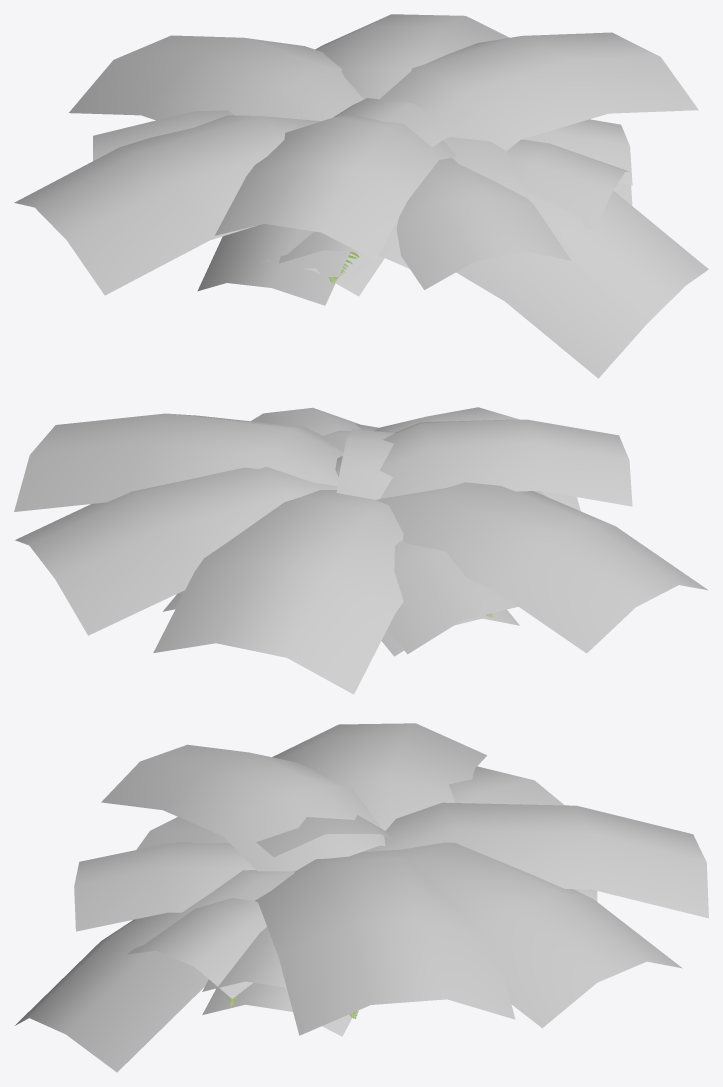
File: Fern.FBX
3 renders of one model, top to bottom at view 1: azimuth 30°, elevation 25°; view 2: azimuth 150°, elevation 25°; view 3: azimuth 270°, elevation 25°, orthographic. The views are drawn at different scales.
Parts seen in each view (by area): view 1: Plane024, Plane016, Plane015, gREENS, Plane023, Plane013, Plane011, Plane014, Plane012, Plane008, Plane006, Plane007 (+1 smaller); view 2: Plane023, Plane024, Plane014, Plane015, gREENS, Plane006, Plane011, Plane012, Plane013, Plane002; view 3: Plane015, Plane023, Plane014, gREENS, Plane016, Plane024, Plane013, Plane012, Plane006, Plane008, Plane011, Plane004 (+1 smaller).
Part boxes in pixels (x1,y1,x2,y2): Plane024: (14, 115, 320, 295); Plane016: (443, 137, 708, 378); Plane015: (380, 32, 698, 150); gREENS: (214, 114, 456, 260); Plane023: (69, 35, 363, 121); Plane013: (396, 157, 571, 289); Plane011: (197, 98, 457, 305); Plane014: (315, 14, 509, 99); Plane012: (507, 139, 628, 230); Plane008: (522, 119, 632, 185); Plane006: (93, 110, 234, 160); Plane007: (279, 217, 409, 268); Plane023: (153, 490, 403, 694); Plane024: (376, 482, 708, 653); Plane014: (15, 466, 337, 635); Plane015: (14, 413, 343, 511); gREENS: (335, 419, 632, 506); Plane006: (387, 540, 518, 654); Plane011: (336, 429, 546, 499); Plane012: (251, 407, 361, 435); Plane013: (374, 407, 519, 432); Plane002: (381, 609, 519, 656); Plane015: (255, 852, 515, 1035); Plane023: (362, 802, 708, 918); Plane014: (360, 842, 682, 1028); gREENS: (101, 744, 385, 871); Plane016: (15, 870, 295, 1072); Plane024: (272, 723, 486, 830); Plane013: (74, 842, 255, 931); Plane012: (127, 898, 266, 998); Plane006: (449, 766, 564, 805); Plane008: (202, 927, 286, 991); Plane011: (256, 815, 396, 857); Plane004: (202, 982, 352, 1036).
Bounding box in the file's own units: 49.57 × 13.91 × 47.58.
